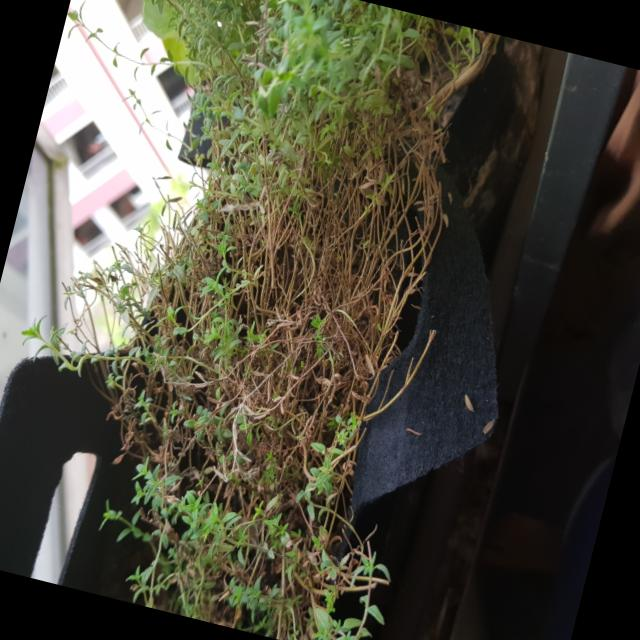Thyme: (0, 0, 539, 640)
